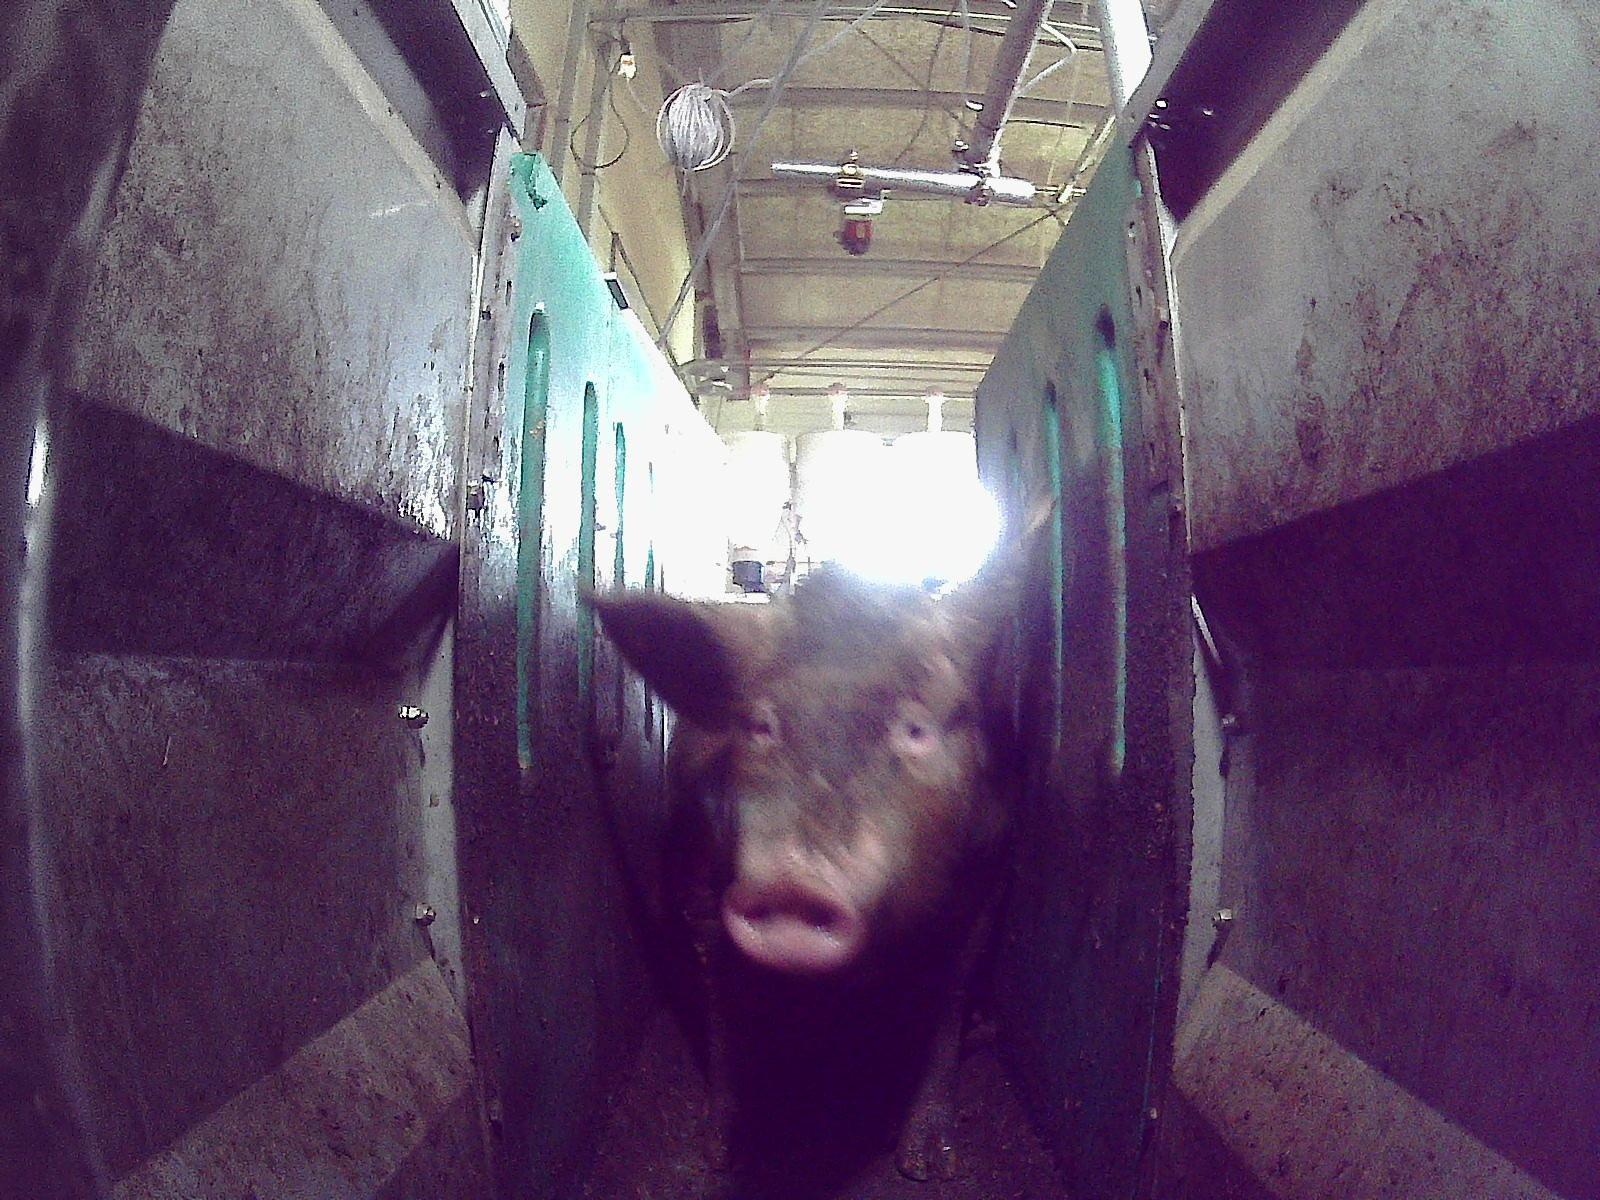Face: (713, 587, 986, 975)
